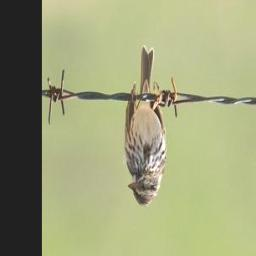Sparrow: (123, 48, 169, 208)
